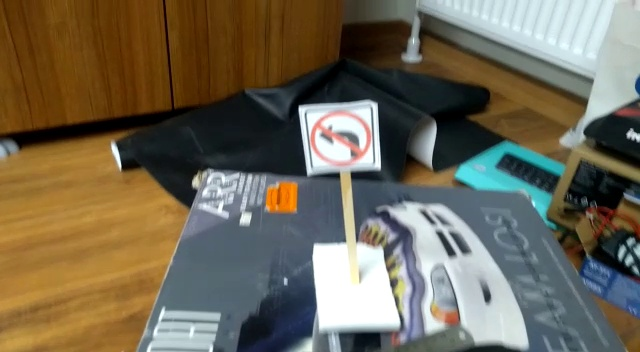sola_donulmez: (311, 104, 372, 171)
